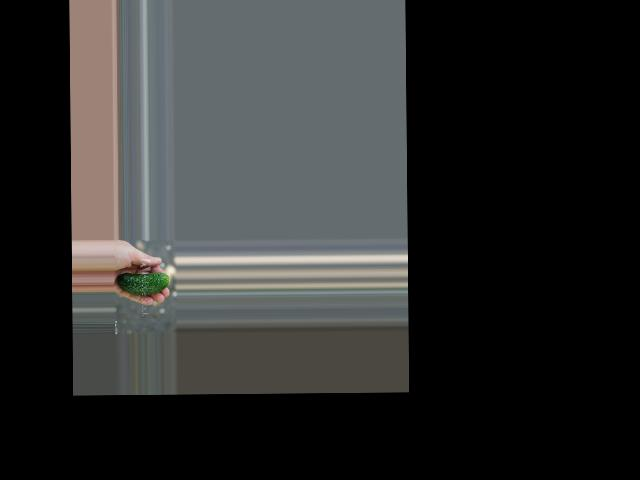cucumber: (116, 272, 168, 295)
